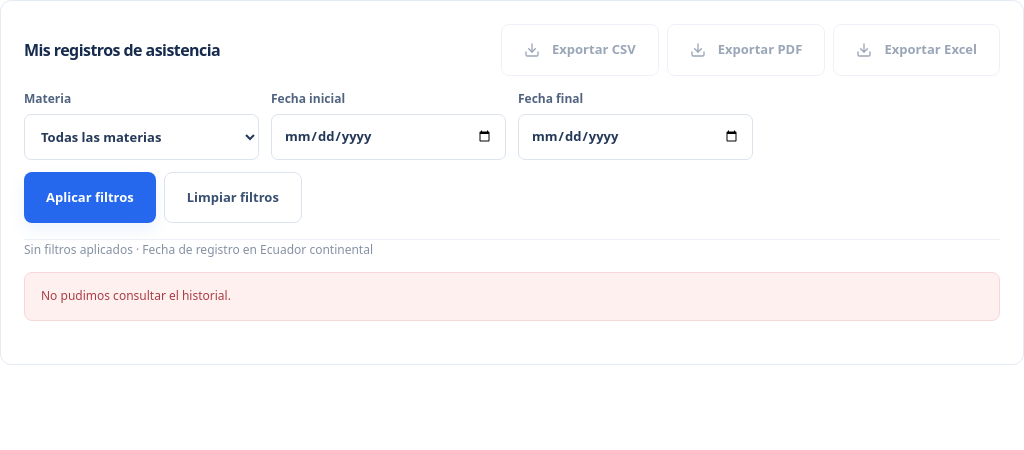
shows request errors and rejects an inverted range locally
The width and height of the screenshot is (1024, 450).
Check: the text "No pudimos consultar el historial." is shown, box [24,272,1000,321]
Check: the button "Exportar CSV" is disabled, box [501,24,659,76]
In the date field labelled "Fecha inicial": (388, 137) [271,114,506,160], type "2026-11-26"
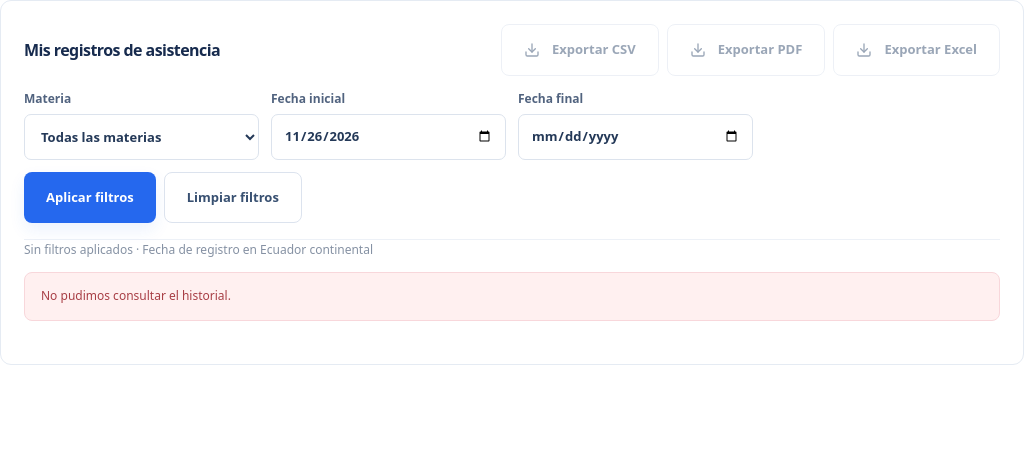
In the date field labelled "Fecha final": (636, 137) [518,114,753,160], type "2026-11-25"
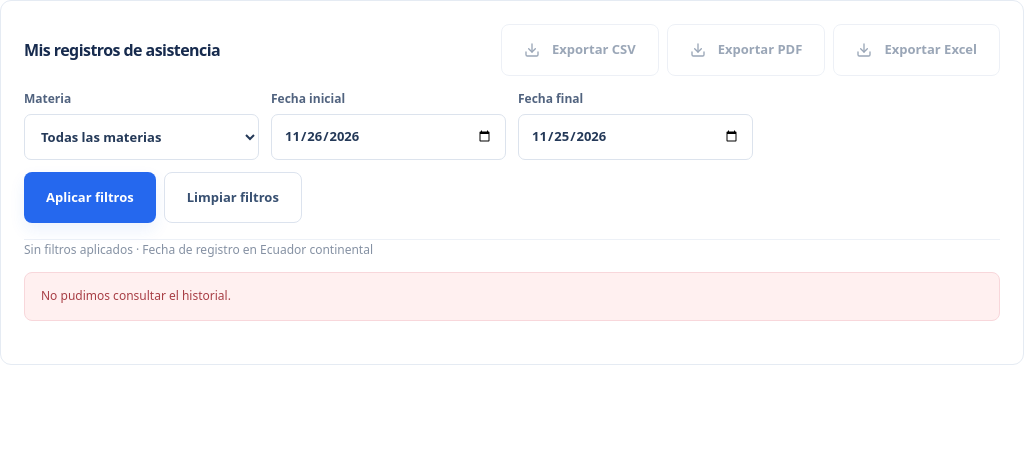
Click the button "Aplicar filtros": click(90, 197) [24,172,156,223]
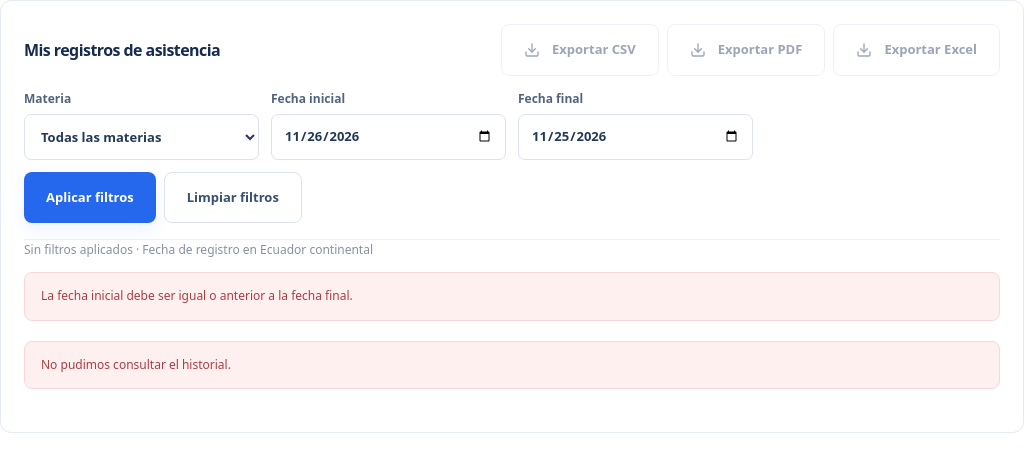
Check: the text "La fecha inicial debe ser igual o anterior a la fecha final." is shown, box [24,272,1000,321]
